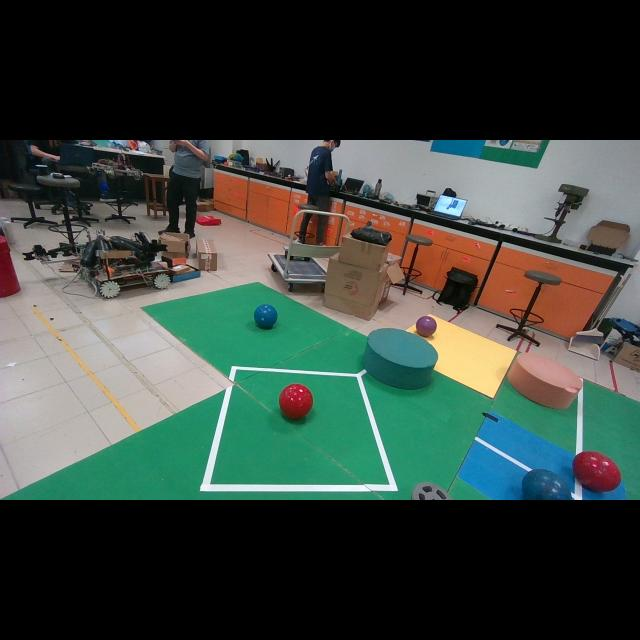B: (521, 469, 571, 500), (254, 304, 278, 329)
P: (416, 316, 436, 336)
R: (572, 451, 621, 491), (279, 384, 312, 418)
